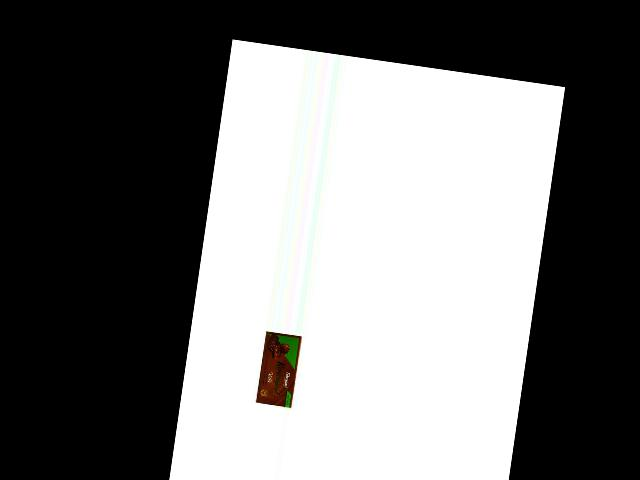chocolate: (254, 330, 304, 410)
